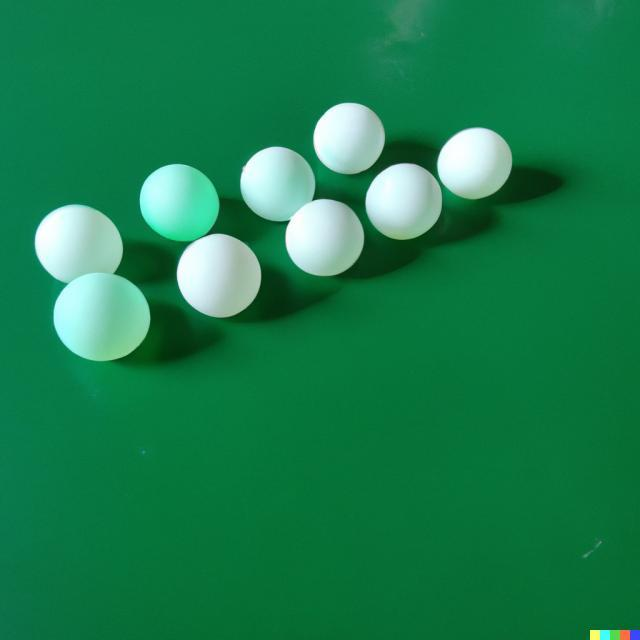white: (52, 271, 150, 363), (36, 203, 122, 285), (176, 235, 261, 317), (285, 198, 366, 278), (140, 163, 220, 243), (365, 162, 444, 240), (239, 146, 315, 222), (313, 102, 387, 177), (438, 127, 513, 199)
